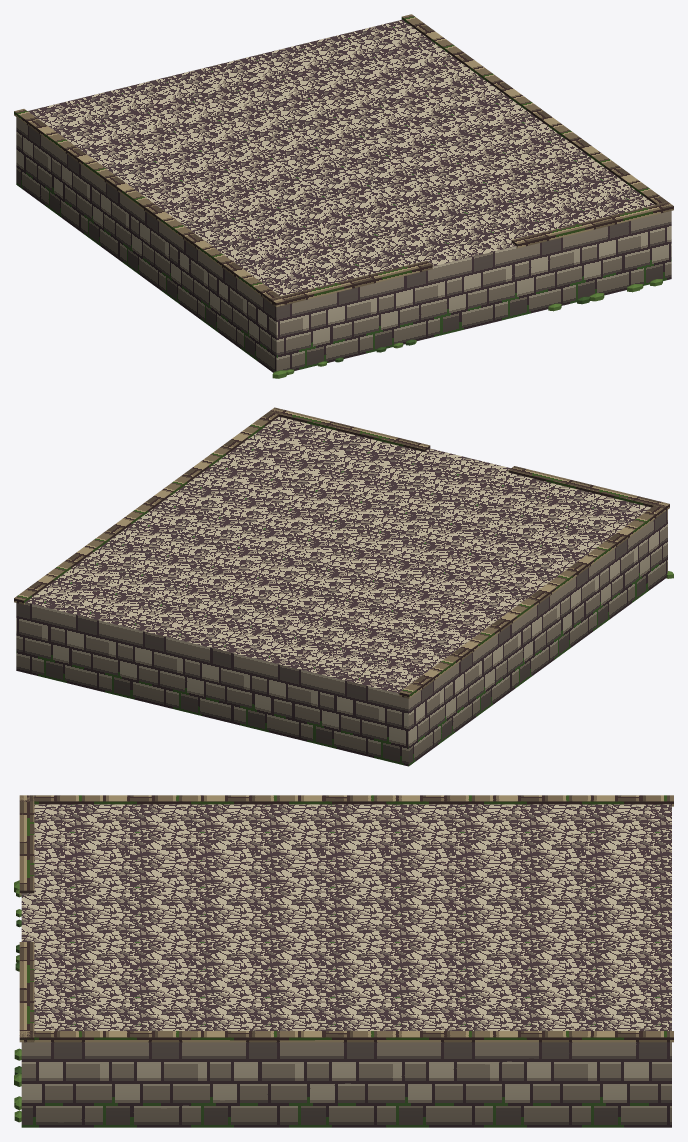
3 views of the same model, one above another, from view 1: azimuth 30°, elevation 25°; view 2: azimuth 150°, elevation 25°; view 3: azimuth 270°, elevation 25° (orthographic). The views are drawn at different scales.
Parts seen in each view (by area): view 1: scene_c7; view 2: scene_c7; view 3: scene_c7.
Boxes of the visible parts, box(x1,y1,x2,y2) form: scene_c7: box(14, 14, 673, 378); scene_c7: box(14, 407, 673, 766); scene_c7: box(14, 795, 673, 1127).
Size of the model in its own units: 14.23 by 2.57 by 16.24.
3 materials, 2 textured.
